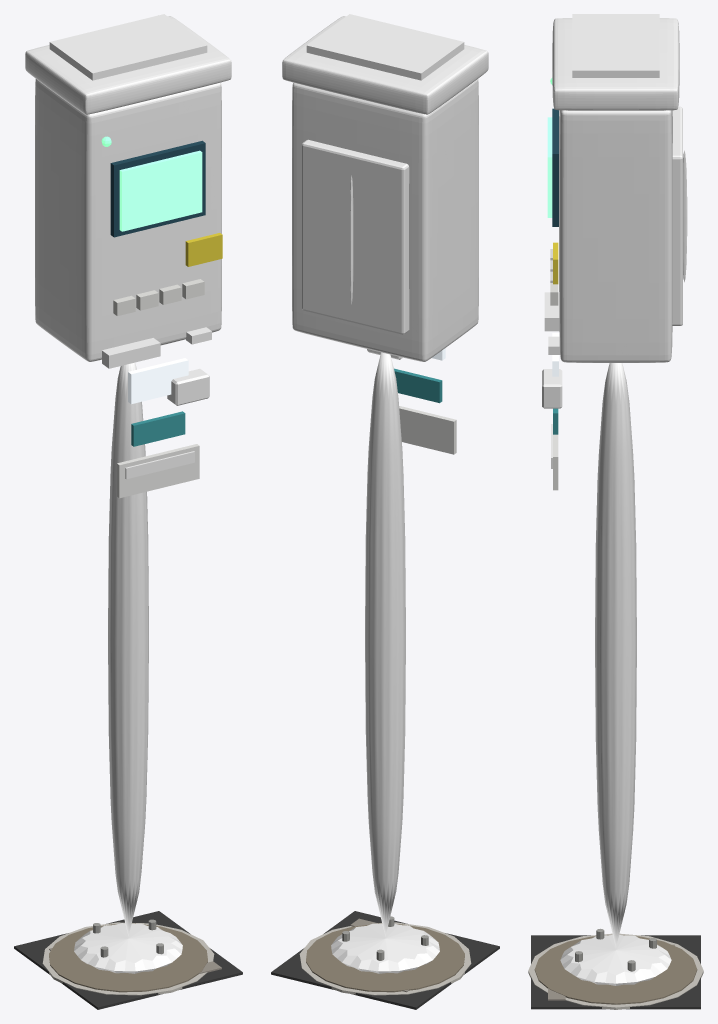
The model's file is hm_prop_parking_meter_v2.glb.
The picture shows the model from 3 angles, left to right: view 1: azimuth 30°, elevation 25°; view 2: azimuth 150°, elevation 25°; view 3: azimuth 270°, elevation 25°; orthographic projection.
Parts seen in each view (by area): view 1: Meter_Head, Meter_Pole, Meter_Cap, Meter_Solar, Meter_Screen, hm_prop_parking_meter_v2_Dirt, Meter_Flange, hm_prop_parking_meter_v2_Shadow, hm_prop_parking_meter_v2_AssetPlate, Meter_Glass, Meter_Num, hm_prop_parking_meter_v2_SaltRing (+5 smaller); view 2: Meter_Head, Meter_Pole, Meter_Door, Meter_Cap, Meter_Solar, hm_prop_parking_meter_v2_Dirt, Meter_Flange, hm_prop_parking_meter_v2_Shadow, hm_prop_parking_meter_v2_AssetPlate, hm_prop_parking_meter_v2_SaltRing, Meter_HM; view 3: Meter_Head, Meter_Pole, Meter_Cap, Meter_Solar, hm_prop_parking_meter_v2_Dirt, Meter_Flange, hm_prop_parking_meter_v2_Shadow, Meter_Door, hm_prop_parking_meter_v2_SaltRing, Meter_Glass, Meter_CoinRet, Meter_Screen (+2 smaller).
Boxes of the visible parts, x1=… form: Meter_Head: x1=35, y1=79, x2=221, y2=361; Meter_Pole: x1=108, y1=362, x2=148, y2=936; Meter_Cap: x1=25, y1=16, x2=231, y2=114; Meter_Solar: x1=49, y1=14, x2=207, y2=80; Meter_Screen: x1=119, y1=150, x2=202, y2=231; hm_prop_parking_meter_v2_Dirt: x1=49, y1=923, x2=207, y2=992; Meter_Flange: x1=74, y1=923, x2=182, y2=973; hm_prop_parking_meter_v2_Shadow: x1=14, y1=911, x2=242, y2=1009; hm_prop_parking_meter_v2_AssetPlate: x1=117, y1=444, x2=199, y2=498; Meter_Glass: x1=110, y1=140, x2=205, y2=237; Meter_Num: x1=128, y1=358, x2=188, y2=404; hm_prop_parking_meter_v2_SaltRing: x1=42, y1=922, x2=214, y2=995; Meter_Head: x1=292, y1=79, x2=478, y2=361; Meter_Pole: x1=365, y1=352, x2=405, y2=936; Meter_Door: x1=302, y1=139, x2=409, y2=334; Meter_Cap: x1=282, y1=16, x2=488, y2=114; Meter_Solar: x1=306, y1=14, x2=464, y2=80; hm_prop_parking_meter_v2_Dirt: x1=306, y1=923, x2=464, y2=992; Meter_Flange: x1=331, y1=923, x2=439, y2=973; hm_prop_parking_meter_v2_Shadow: x1=271, y1=911, x2=499, y2=1009; hm_prop_parking_meter_v2_AssetPlate: x1=399, y1=406, x2=456, y2=454; hm_prop_parking_meter_v2_SaltRing: x1=299, y1=922, x2=471, y2=995; Meter_HM: x1=394, y1=368, x2=442, y2=403; Meter_Head: x1=559, y1=110, x2=672, y2=362; Meter_Pole: x1=595, y1=363, x2=636, y2=947; Meter_Cap: x1=552, y1=18, x2=679, y2=110; Meter_Solar: x1=572, y1=14, x2=659, y2=77; hm_prop_parking_meter_v2_Dirt: x1=534, y1=935, x2=697, y2=1004; Meter_Flange: x1=560, y1=935, x2=671, y2=985; hm_prop_parking_meter_v2_Shadow: x1=531, y1=935, x2=700, y2=1009; Meter_Door: x1=672, y1=106, x2=682, y2=325; hm_prop_parking_meter_v2_SaltRing: x1=528, y1=933, x2=703, y2=1009; Meter_Glass: x1=552, y1=108, x2=558, y2=226; Meter_CoinRet: x1=542, y1=369, x2=562, y2=408; Meter_Screen: x1=547, y1=117, x2=552, y2=217.
Size of the model in its own units: 0.2614 by 1.53 by 0.2614.
